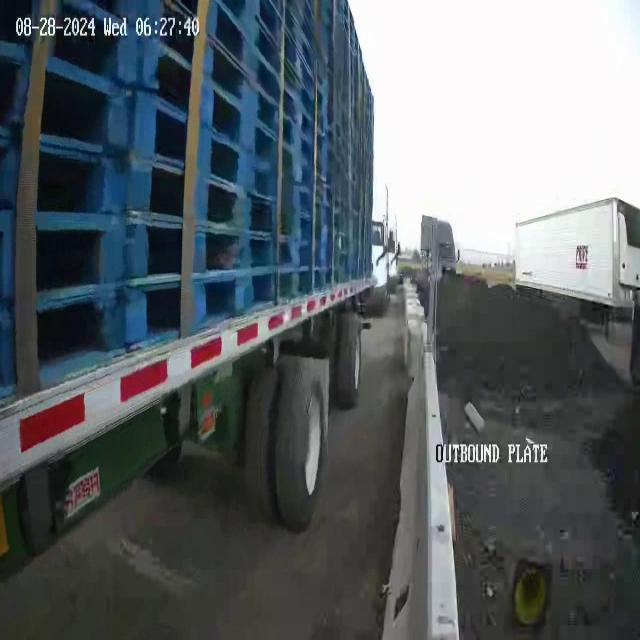TRUCK_OUT: (1, 1, 382, 555)
